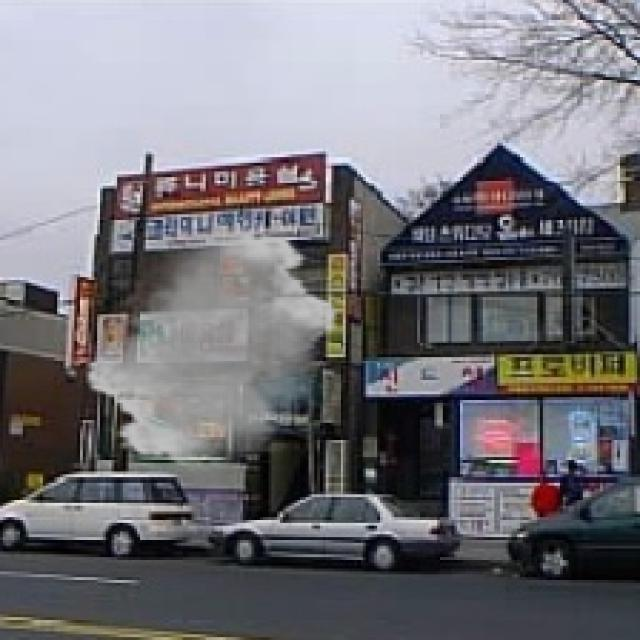Smoke: (83, 219, 340, 472)
